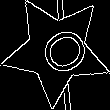O_SW: (24, 19, 88, 82)
